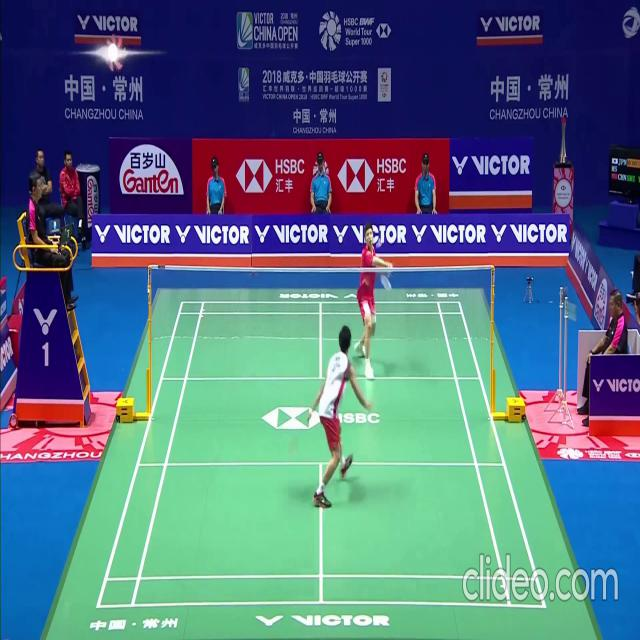Shuttlecock: (377, 238, 382, 246)
